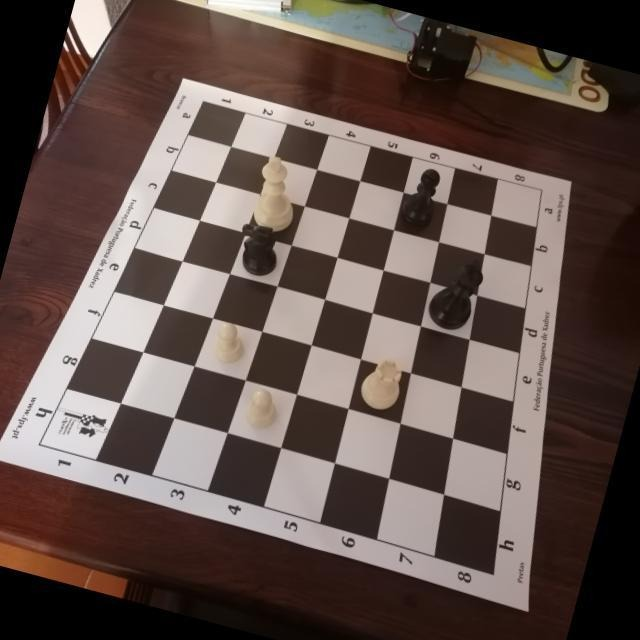black-bishop: (398, 163, 446, 229)
black-king: (423, 248, 488, 335)
black-knight: (229, 219, 286, 281)
white-king: (246, 152, 308, 237)
white-pawn: (240, 384, 284, 433), (209, 319, 251, 367)
white-rook: (355, 350, 408, 413)
